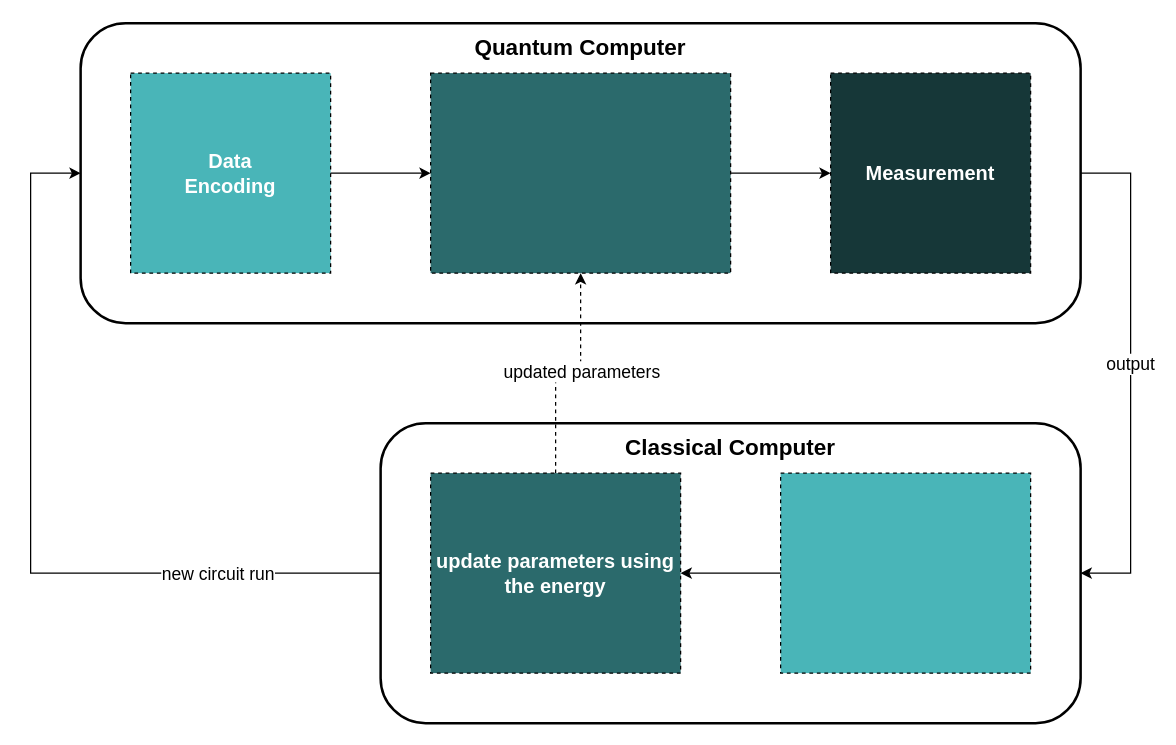
This 1176x745 diagram has some shape labels left out. Here are the shapes that lost their labels. From the top down, the centre of each, then its label:
At (580,172): "parameterized Ansatz".
At (905,572): "determine energy of the hamiltonian with the output".
